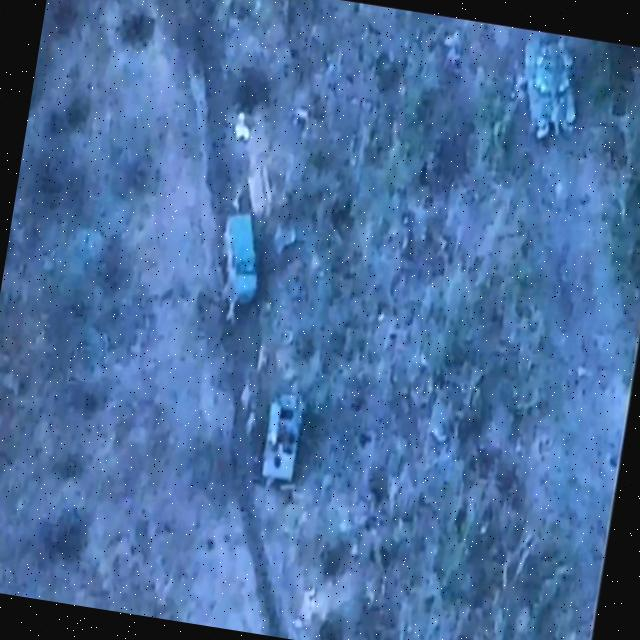APC: (257, 389, 311, 485)
MBT: (511, 36, 590, 146)
Vehicle: (215, 210, 270, 314)
